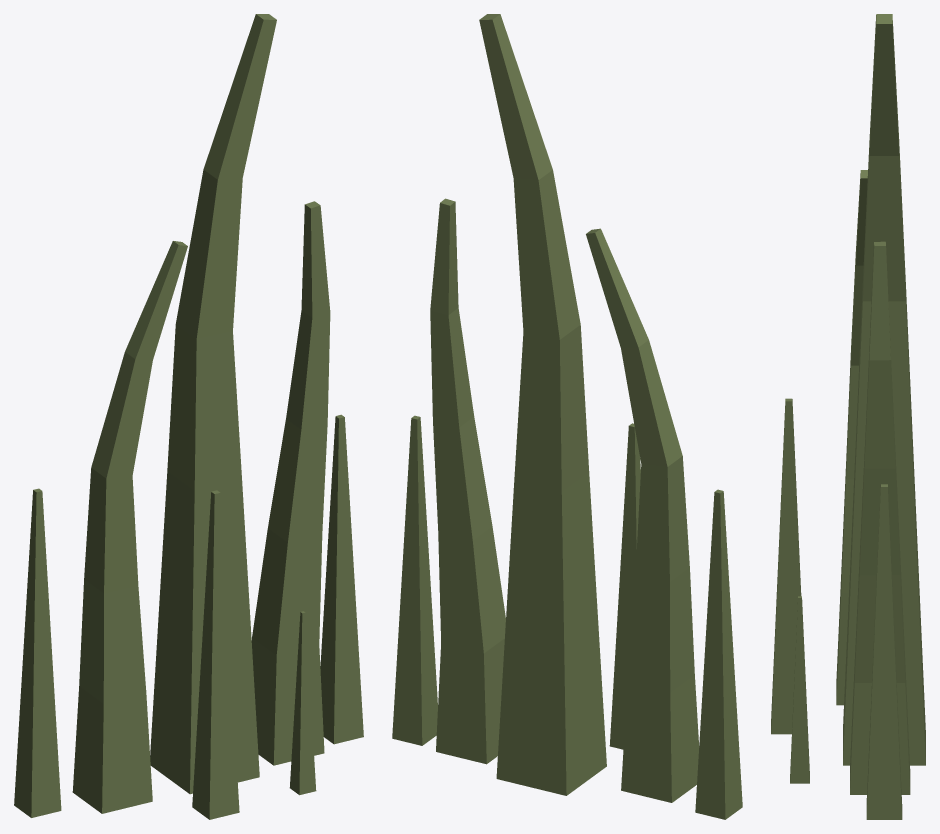
The model's file is super_quick_grass.fbx.
3 renders of one model, left to right at view 1: azimuth 30°, elevation 25°; view 2: azimuth 150°, elevation 25°; view 3: azimuth 270°, elevation 25°, orthographic. The views are drawn at different scales.
Parts seen in each view (by area): view 1: Super Quick Grass; view 2: Super Quick Grass; view 3: Super Quick Grass.
Part boxes in pixels (x1,y1,x2,y2): Super Quick Grass: (14, 14, 363, 819); Super Quick Grass: (392, 14, 742, 819); Super Quick Grass: (771, 14, 925, 819).
Size of the model in its own units: 94.17 by 201 by 36.9.
